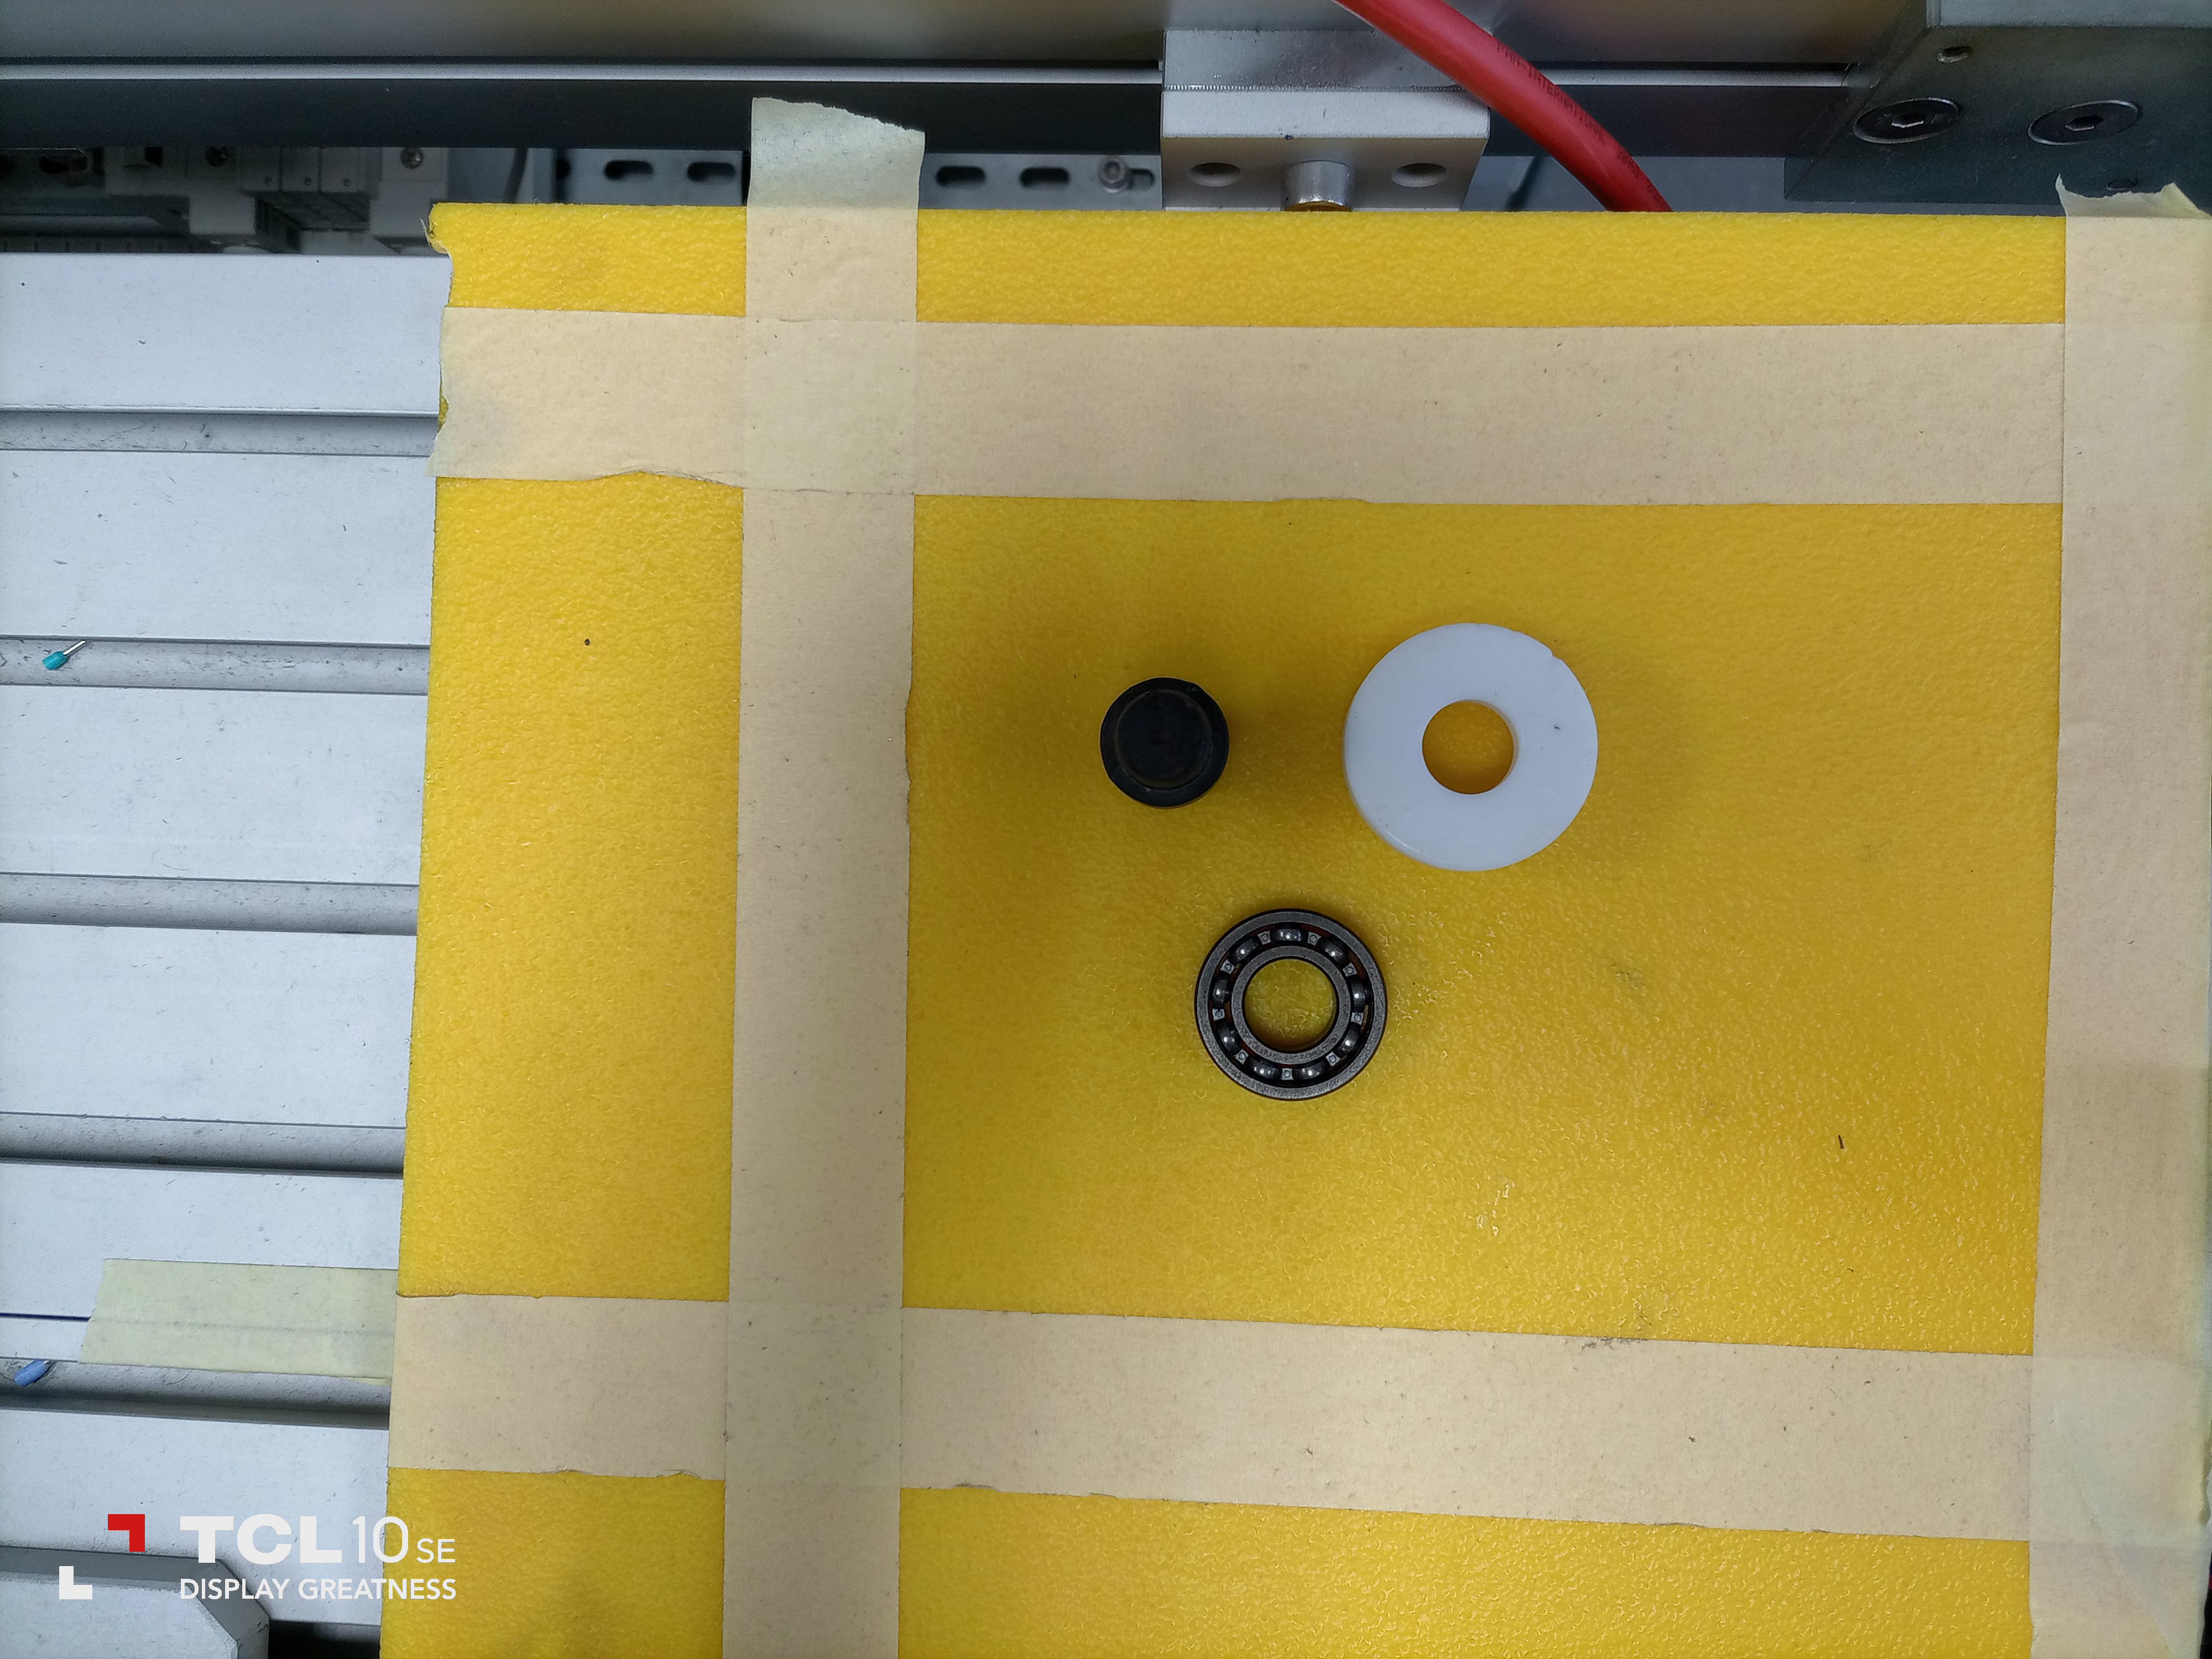Ardatza: (1103, 678, 1233, 807)
Roda: (1183, 901, 1392, 1117)
Tapa: (1332, 641, 1613, 859)
